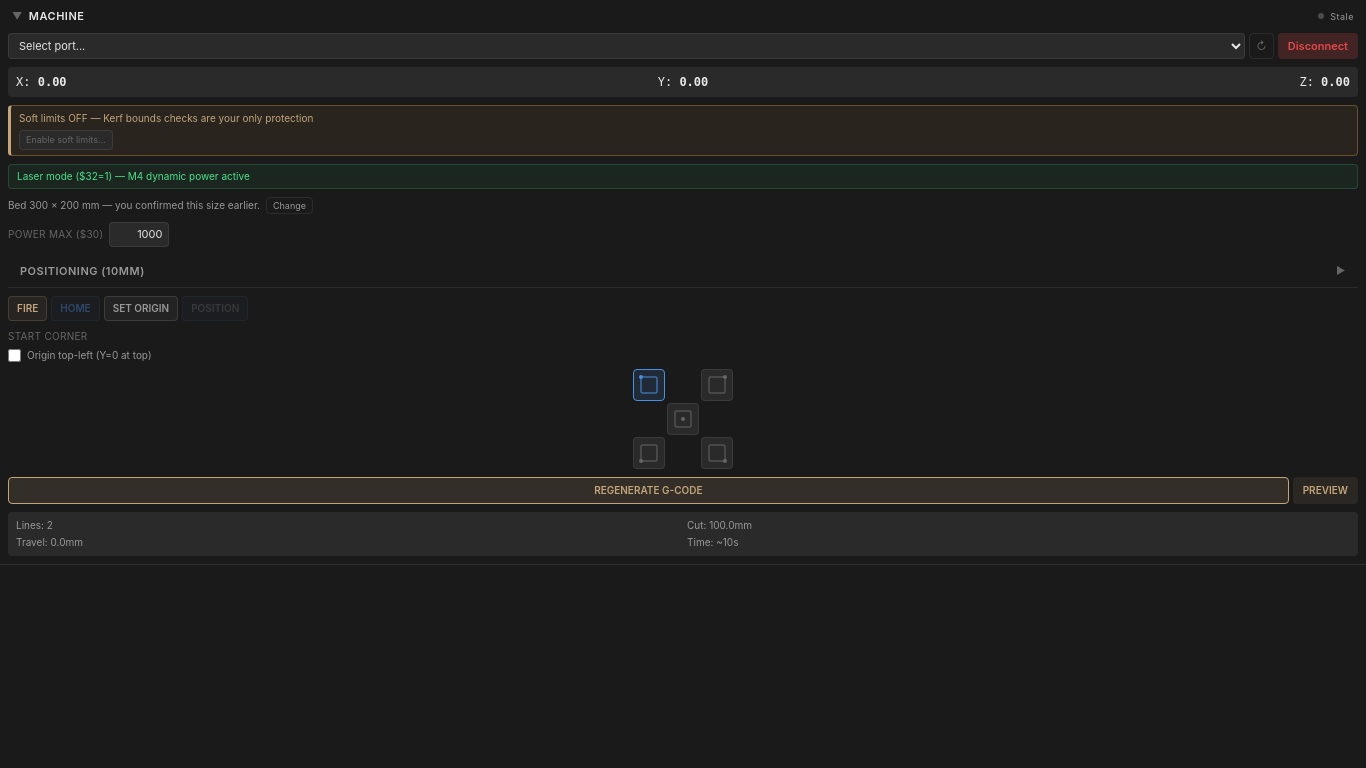
Scenario: S3 — MachinePanel and StatusBar › a remembered bed shows who set it, with a Change button that opens the inputs
The width and height of the screenshot is (1366, 768).
Expected: the text "Bed 300 × 200 mm — you confirmed this size earlier." is shown, [8, 198, 260, 213]
Expected: the text "The width and height the laser head can reach, in mm." is not shown
Click the button "Change".
click(290, 205)  # box [266, 196, 313, 214]
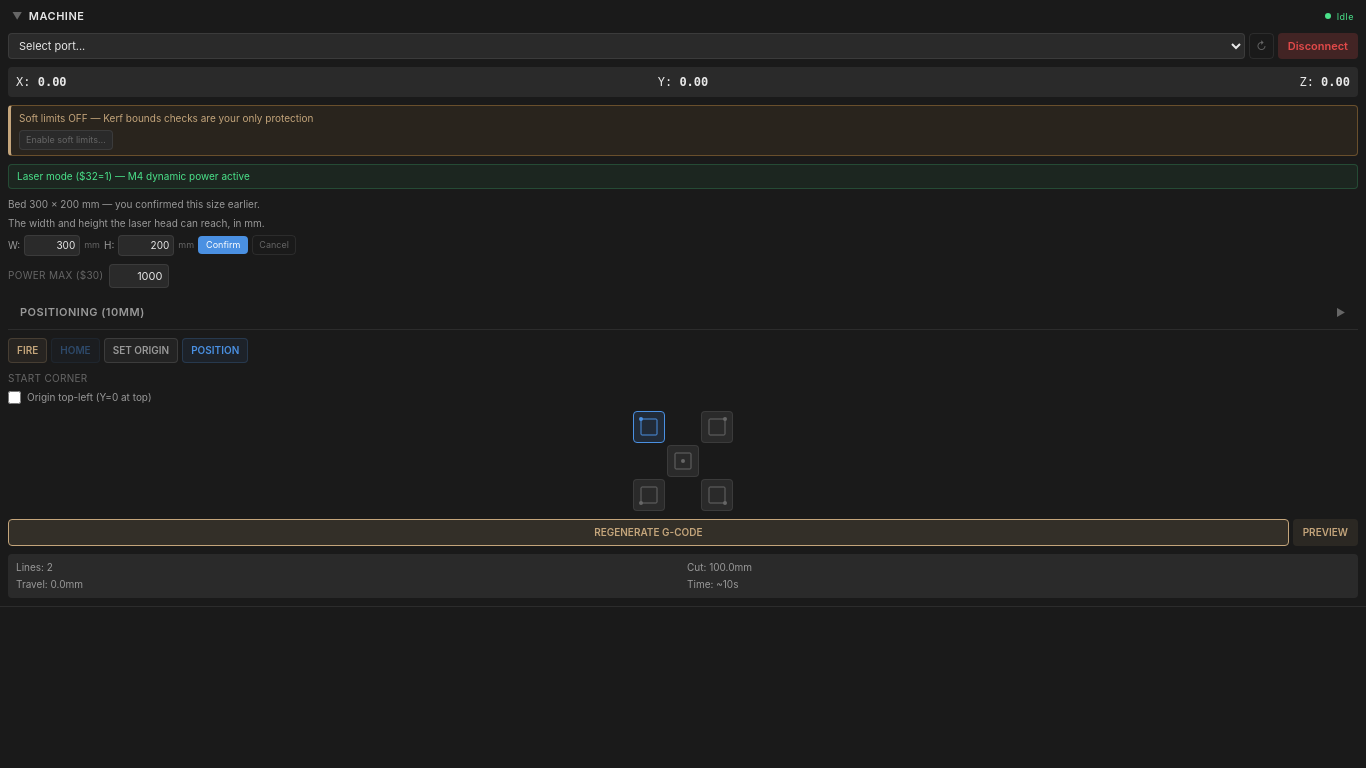
Expected: the text "The width and height the laser head can reach, in mm." is shown, [8, 216, 265, 228]
